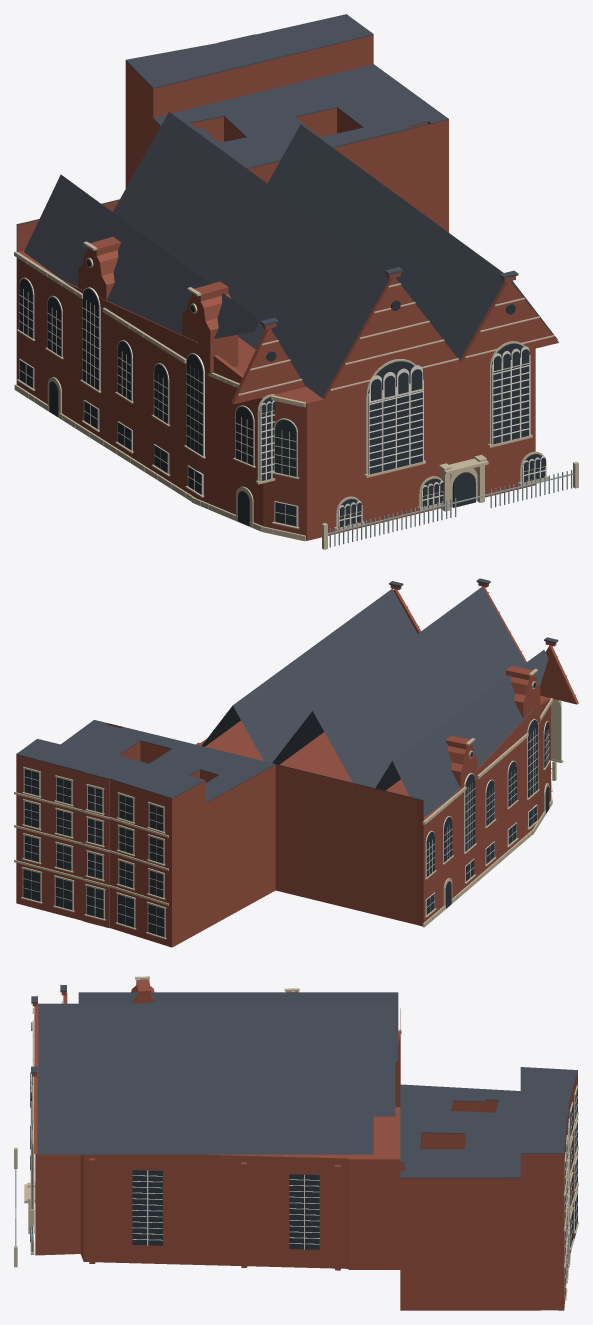
Rendered from oude-lutherse-kerk.glb.
3 renders of one model, top to bottom at view 1: azimuth 30°, elevation 25°; view 2: azimuth 150°, elevation 25°; view 3: azimuth 270°, elevation 25°, orthographic. The views are drawn at different scales.
Parts seen in each view (by area): view 1: oude-lutherse-kerk; view 2: oude-lutherse-kerk; view 3: oude-lutherse-kerk.
Boxes of the visible parts, x1,y1,x2,y2 form: oude-lutherse-kerk: (14,14,578,549); oude-lutherse-kerk: (14,578,578,947); oude-lutherse-kerk: (14,976,578,1310).
Bounding box in the file's own units: 41.02 × 22.46 × 57.28.
